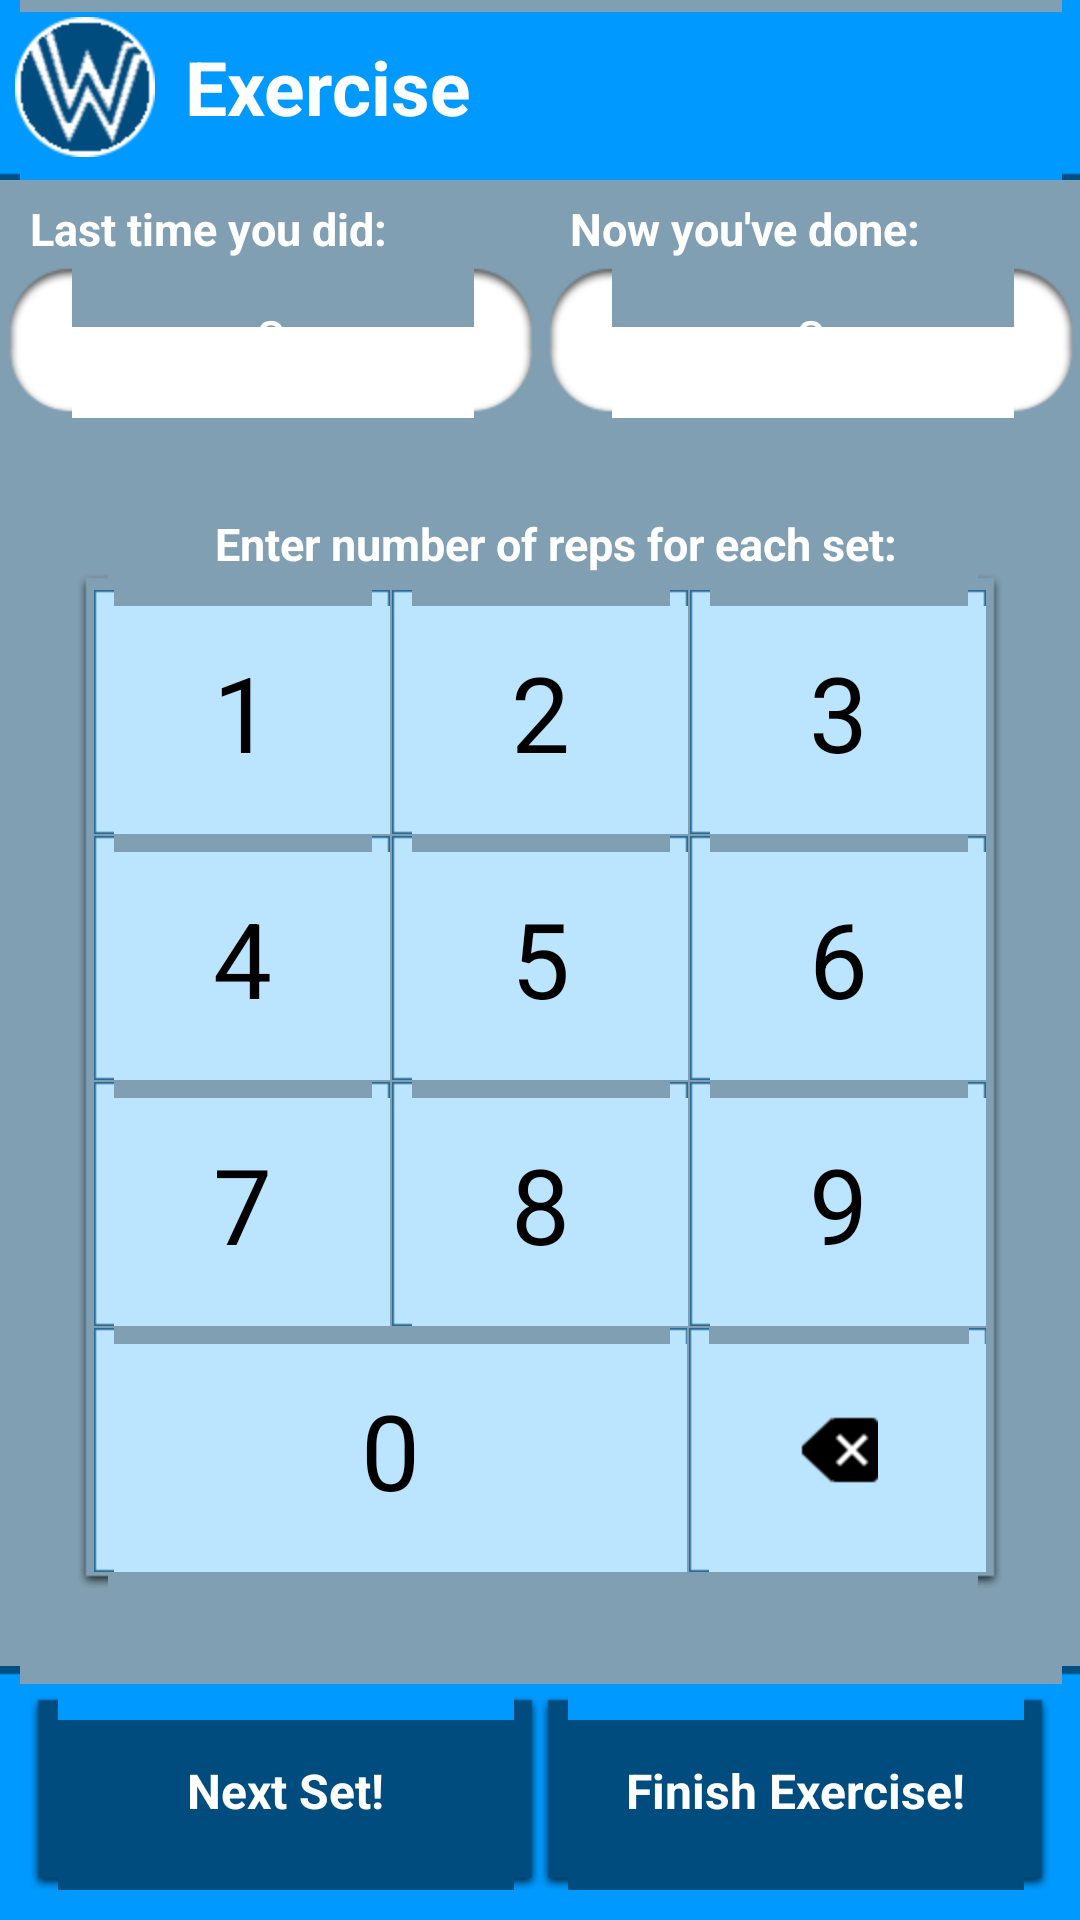

Screen size 1080*1920. Icon name, then its box in pixels as (x1, y1, x2, y2):
backspace picture: (689, 1328, 986, 1572)
